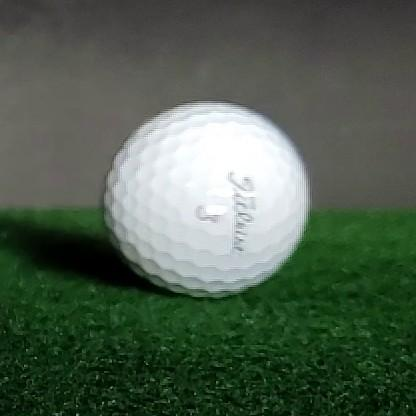golfball: (104, 100, 310, 298)
